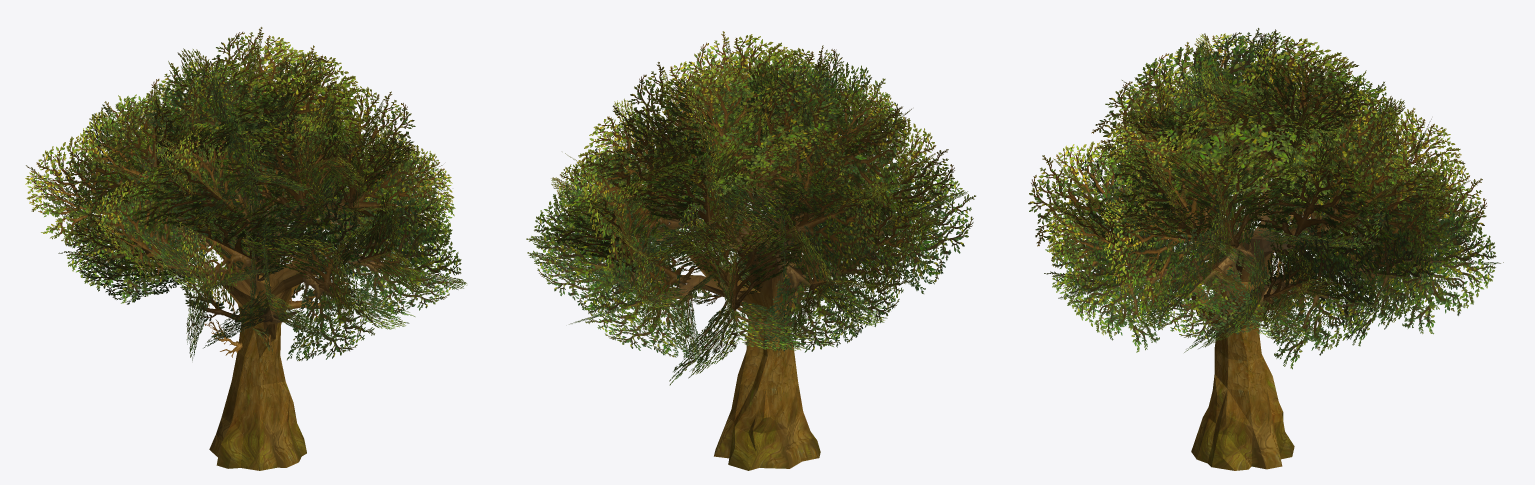
Rendered from ElwynTree01.obj.
The picture shows the model from 3 angles, left to right: view 1: azimuth 30°, elevation 25°; view 2: azimuth 150°, elevation 25°; view 3: azimuth 270°, elevation 25°; orthographic projection. The views are drawn at different scales.
Parts seen in each view (by area): view 1: Body.001_Body_Mesh.001, Body_Body_Mesh; view 2: Body.001_Body_Mesh.001, Body_Body_Mesh; view 3: Body.001_Body_Mesh.001, Body_Body_Mesh.
Boxes of the visible parts, left/top/right/bottom form: Body.001_Body_Mesh.001: left=25, top=27, right=466, bottom=360; Body_Body_Mesh: left=187, top=196, right=376, bottom=470; Body.001_Body_Mesh.001: left=526, top=31, right=975, bottom=385; Body_Body_Mesh: left=609, top=196, right=867, bottom=470; Body.001_Body_Mesh.001: left=1028, top=28, right=1503, bottom=369; Body_Body_Mesh: left=1156, top=200, right=1411, bottom=470.
Bounding box in the file's own units: 67.32 × 66.15 × 71.97.
2 materials, 2 textured.
